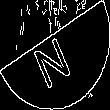N_NW: (32, 23, 78, 87)
